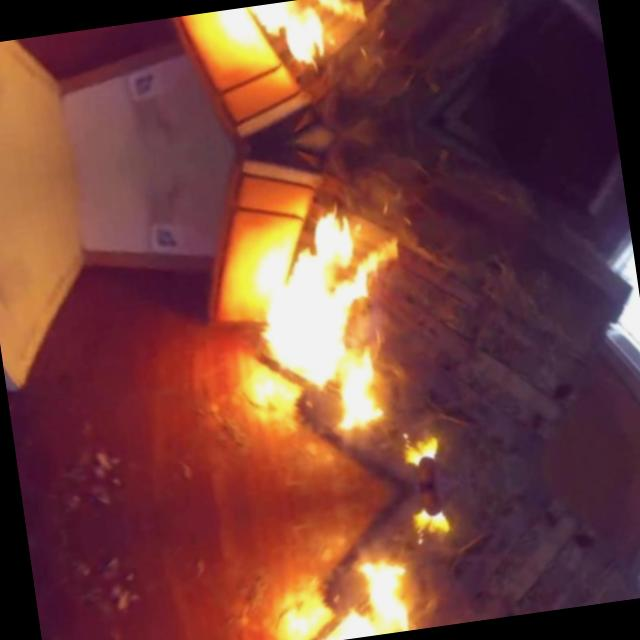fire: (221, 164, 454, 526)
